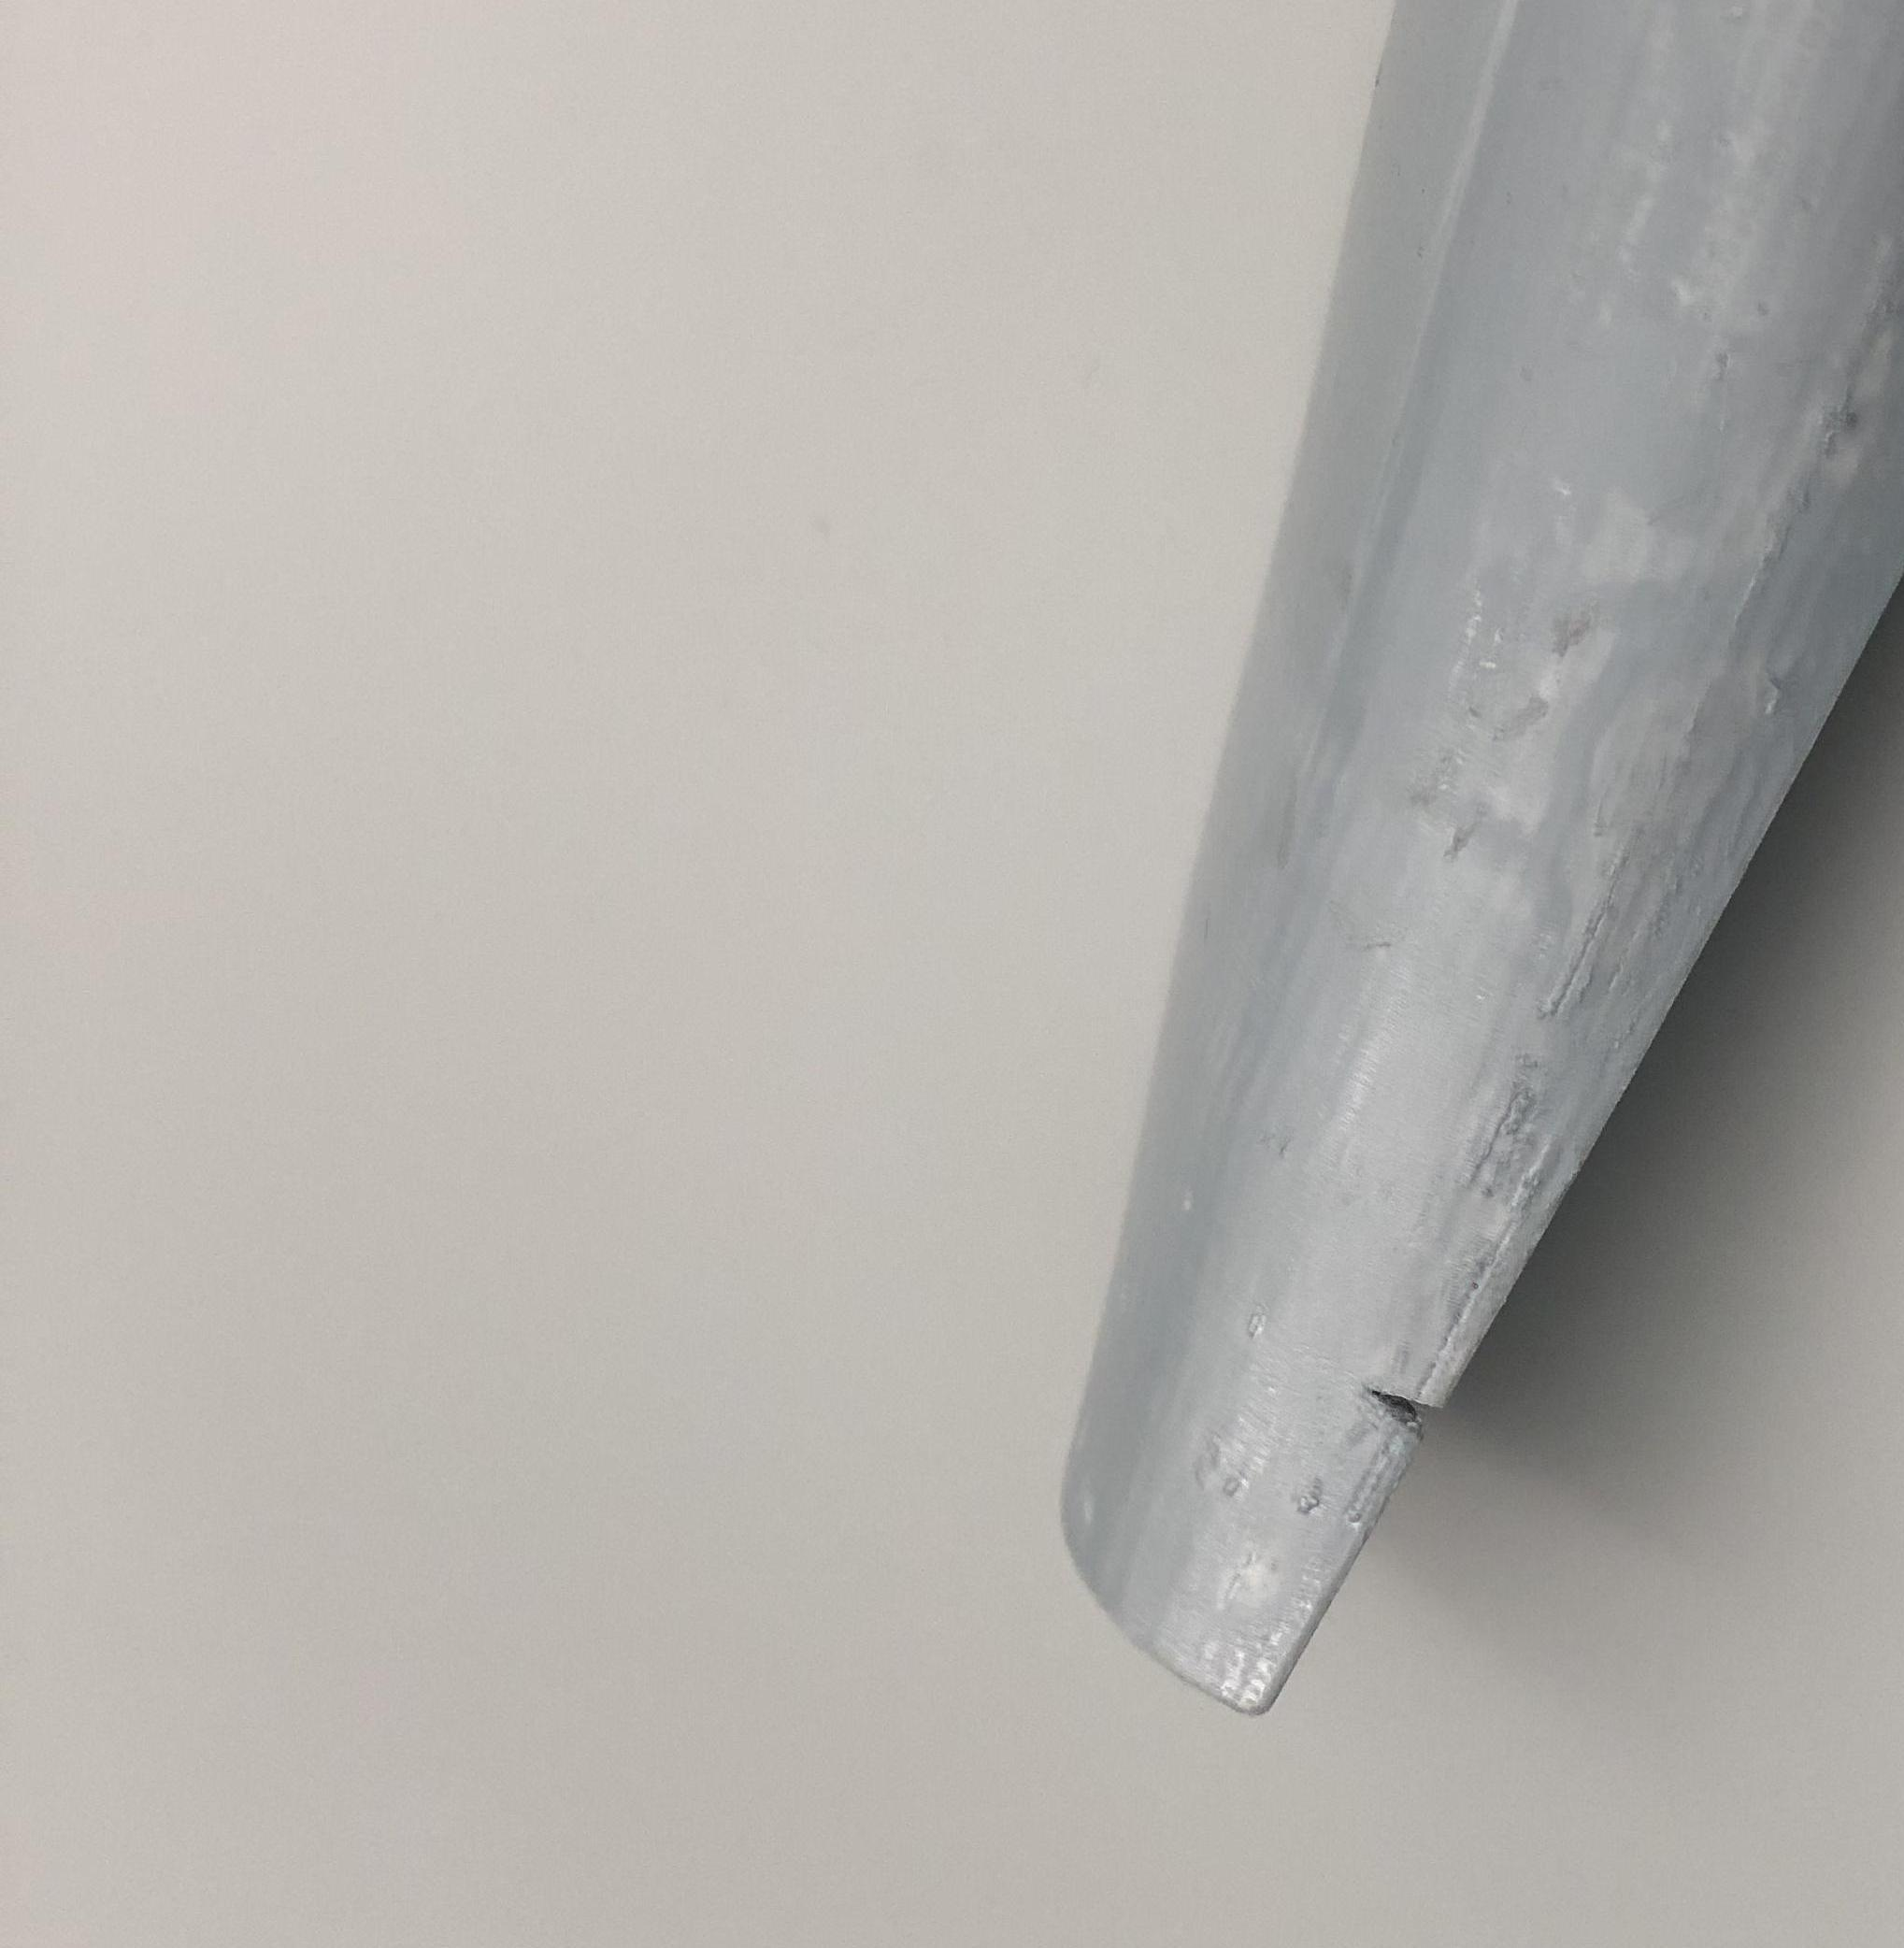groove: (1355, 1374, 1454, 1451)
